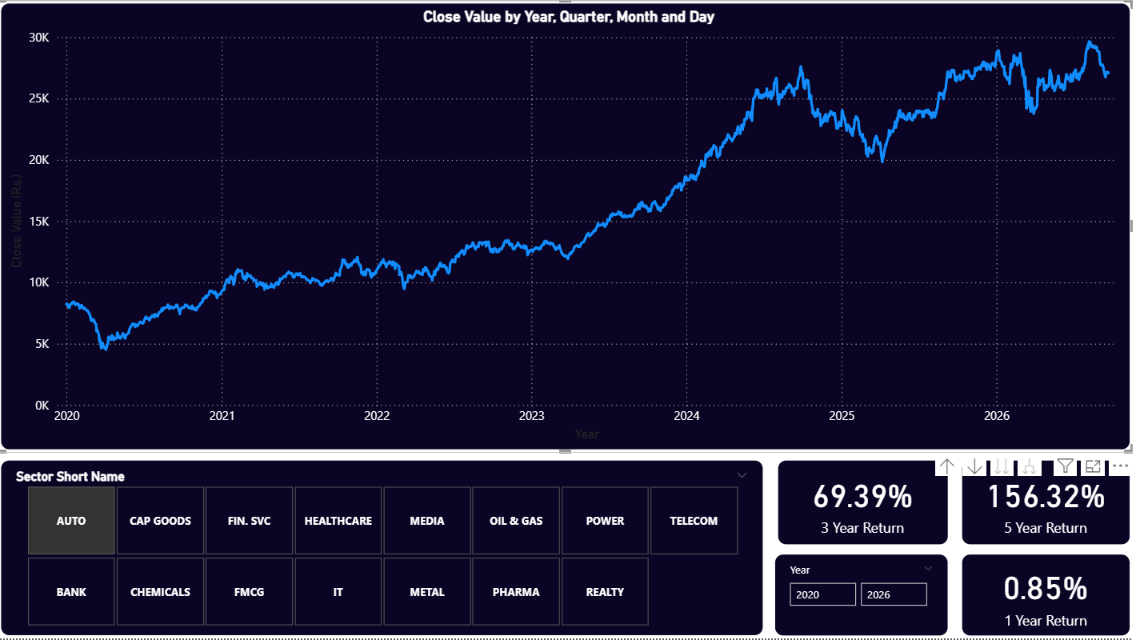

What the dashboard file says about the page in this screenshot:
{"tool":"powerbi","page":{"name":"Page 2","canvas":[1280,720],"ordinal":1},"visuals":[{"type":"lineChart","title":" Close Value by Year, Quarter, Month and Day","fields":{"Category":["Date Table.Date.Variation.Date Hierarchy.Year","Date Table.Date.Variation.Date Hierarchy.Quarter","Date Table.Date.Variation.Date Hierarchy.Month","Date Table.Date.Variation.Date Hierarchy.Day"],"Y":["Max(Combine Data.Close)"]},"box":[0,0,1280.2,510.5],"z":0},{"type":"slicer","fields":{"Values":["Combine Data.Sector Short Name"]},"box":[0,515.1,866.3,204.7],"z":1000},{"type":"slicer","fields":{"Values":["Date Table.Year"]},"box":[872.1,620.9,202.3,98.8],"z":1001},{"type":"card","fields":{"Values":["Combine Data.3 Year Return"]},"box":[875.6,514.5,198.8,102.3],"z":1002},{"type":"card","fields":{"Values":["Combine Data.5 Year Return"]},"box":[1083.7,514.5,196.5,102.3],"z":1003},{"type":"card","fields":{"Values":["Combine Data.1 Year Return"]},"box":[1083.7,620.9,196.5,98.8],"z":1004}]}

Visuals, with their boxes in screenshot pixels (x1, y1, x2, y2), scaled from the page's 1280x720 canvas onto the 1133x641 screenshot:
" Close Value by Year, Quarter, Month and Day" lineChart: x1=0 y1=0 x2=1132 y2=454
slicer - Combine Data.Sector Short Name: x1=0 y1=459 x2=767 y2=640
slicer - Date Table.Year: x1=772 y1=553 x2=951 y2=640
card - Combine Data.3 Year Return: x1=775 y1=458 x2=951 y2=549
card - Combine Data.5 Year Return: x1=959 y1=458 x2=1132 y2=549
card - Combine Data.1 Year Return: x1=959 y1=553 x2=1132 y2=640
